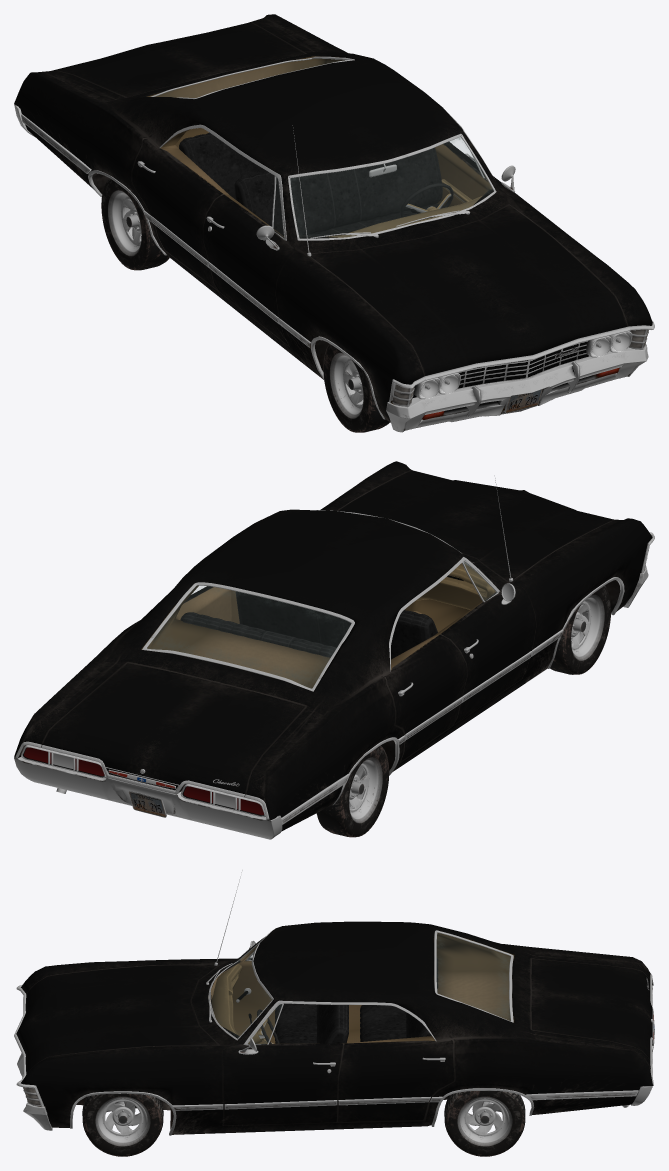
3 views of the same model, one above another, from view 1: azimuth 30°, elevation 25°; view 2: azimuth 150°, elevation 25°; view 3: azimuth 270°, elevation 25° (orthographic). The views are drawn at different scales.
Visible parts, largest first — view 1: CarUP_LP, CouchUP_LP, FrontGlass_LP, FrontBump_LP, Wheel_LP, Grill_LP, BackGlass_LP, FrontChromeglass_LP, Frontchromemask_LP, LampMirror_LP, Desktop_LP, GlassLapm_LP (+6 smaller); view 2: CarUP_LP, BackGlass_LP, Wheel_LP, CouchUP_LP, Backbump_LP, BackLapmFrame_LP, ChromeBackGlass_LP, Desktop_LP, BackChromelamp_LP, IDBack_LP, SideWindow_LP, Sidechrome5_LP; view 3: CarUP_LP, Wheel_LP, BackGlass_LP, CouchDown_LP, FrontGlass_LP, CouchUP_LP, Desktop_LP, ChromeBackGlass_LP, Sidechrome5_LP, SideWindow_LP, Sidechrome2_LP, Sidechrome3_LP (+5 smaller).
Part boxes in pixels (x1,y1,x2,y2): CarUP_LP: (14, 14, 652, 422); CouchUP_LP: (179, 132, 442, 235); FrontGlass_LP: (290, 137, 493, 238); FrontBump_LP: (386, 344, 648, 432); Wheel_LP: (101, 178, 389, 432); Grill_LP: (458, 341, 589, 388); BackGlass_LP: (154, 58, 336, 97); FrontChromeglass_LP: (288, 133, 496, 240); Frontchromemask_LP: (425, 326, 630, 380); LampMirror_LP: (419, 333, 629, 398); Desktop_LP: (326, 195, 482, 237); GlassLapm_LP: (421, 333, 629, 398); CarUP_LP: (14, 461, 652, 831); BackGlass_LP: (147, 585, 350, 688); Wheel_LP: (316, 585, 610, 837); CouchUP_LP: (180, 591, 437, 659); Backbump_LP: (14, 757, 282, 839); BackLapmFrame_LP: (21, 745, 265, 817); ChromeBackGlass_LP: (142, 582, 354, 691); Desktop_LP: (416, 564, 495, 609); BackChromelamp_LP: (15, 741, 269, 820); IDBack_LP: (128, 791, 166, 817); SideWindow_LP: (389, 557, 500, 671); Sidechrome5_LP: (281, 773, 349, 824); CarUP_LP: (16, 921, 652, 1134); Wheel_LP: (82, 1091, 525, 1156); BackGlass_LP: (437, 933, 510, 1020); CouchDown_LP: (275, 1003, 406, 1043); FrontGlass_LP: (211, 942, 271, 1037); CouchUP_LP: (316, 957, 438, 1043); Desktop_LP: (211, 964, 242, 1035); ChromeBackGlass_LP: (434, 930, 513, 1022); Sidechrome5_LP: (526, 1090, 638, 1100); SideWindow_LP: (243, 951, 436, 1044); Sidechrome2_LP: (224, 1100, 337, 1109); Sidechrome3_LP: (338, 1097, 430, 1105).
Size of the model in its own units: 0.2235 by 0.1997 by 0.5745.
6 materials, 6 textured.
